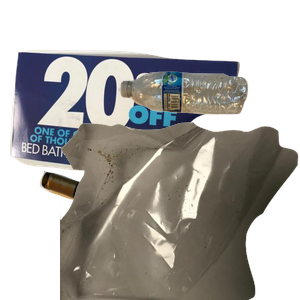glass: (37, 168, 242, 300)
paper: (10, 41, 242, 207)
plastic: (118, 69, 300, 176)
trash: (60, 120, 300, 300)
